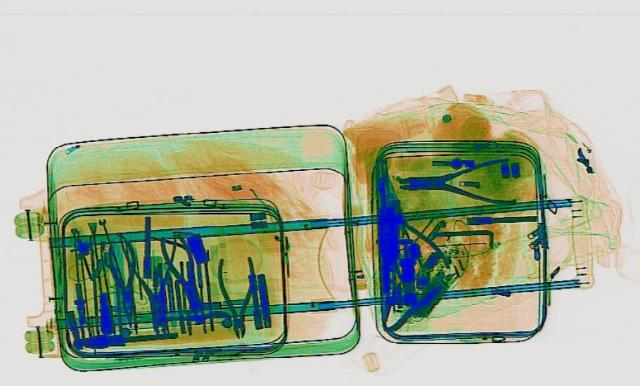Pliers: (125, 237, 188, 332), (396, 157, 516, 205), (157, 230, 206, 307), (214, 255, 258, 336), (105, 239, 144, 326)
